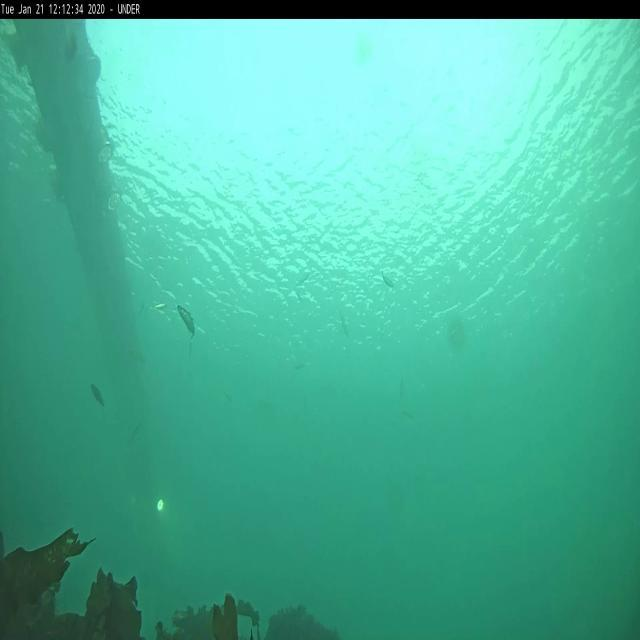fish: (177, 301, 196, 338), (90, 380, 104, 408), (128, 422, 144, 444), (378, 270, 396, 289), (339, 311, 349, 338), (296, 272, 312, 288), (154, 300, 168, 312)
